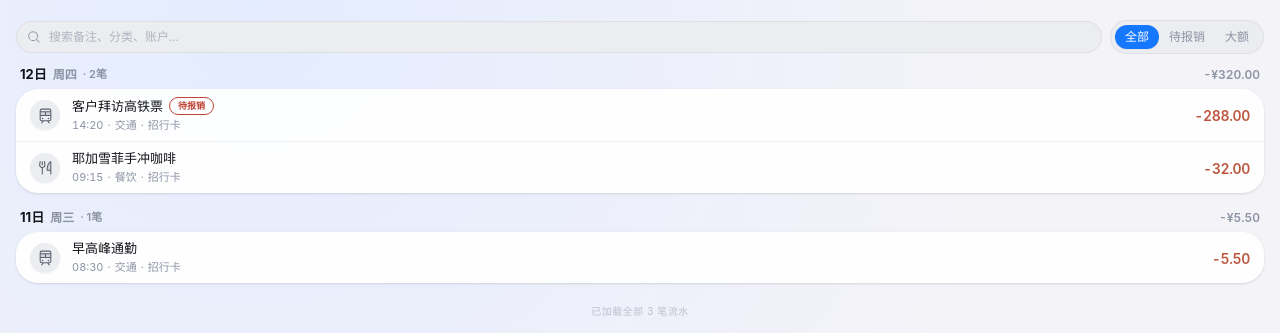
TransactionGroup component › supports multi-keyword and subsequence fuzzy search across fields
The image size is (1280, 333).
Type "手咖 招卡" into the field with placeholder "搜索备注、分类、账户..." at {"x": 570, "y": 37}, box [49,29,1091,45]
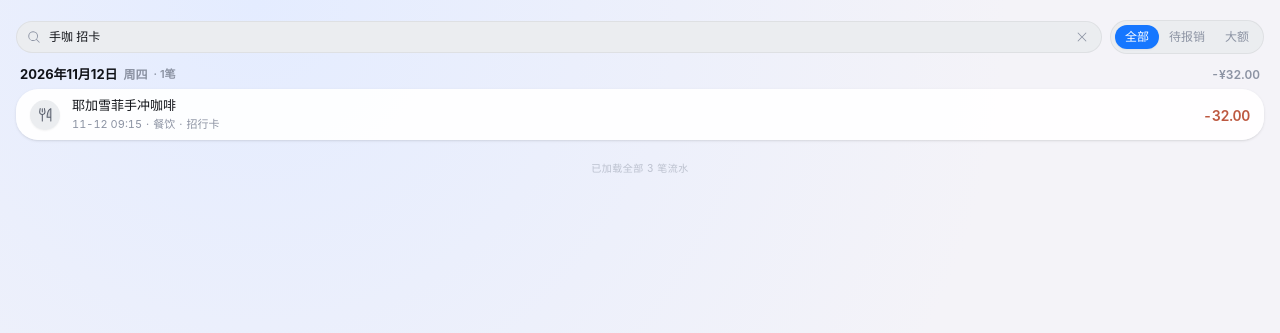
Expected: the text "耶加雪菲手冲咖啡" is shown, [72,97,176,114]
Expected: the text "客户拜访高铁票" is gone
Replace the text in the field with placeholder "搜索备注、分类、账户..." with "11月12日 待报销" at {"x": 559, "y": 37}, box [49,29,1069,45]
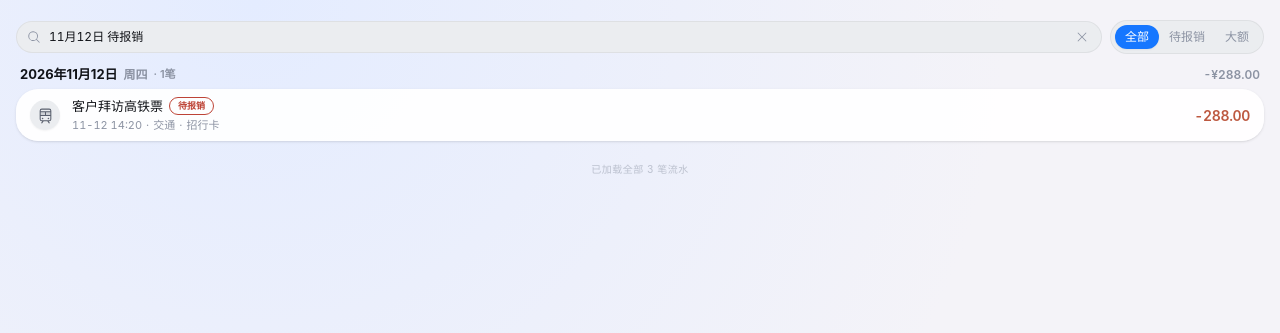
Expected: the text "客户拜访高铁票" is shown, [72,98,163,114]
Expected: the text "耶加雪菲手冲咖啡" is gone
